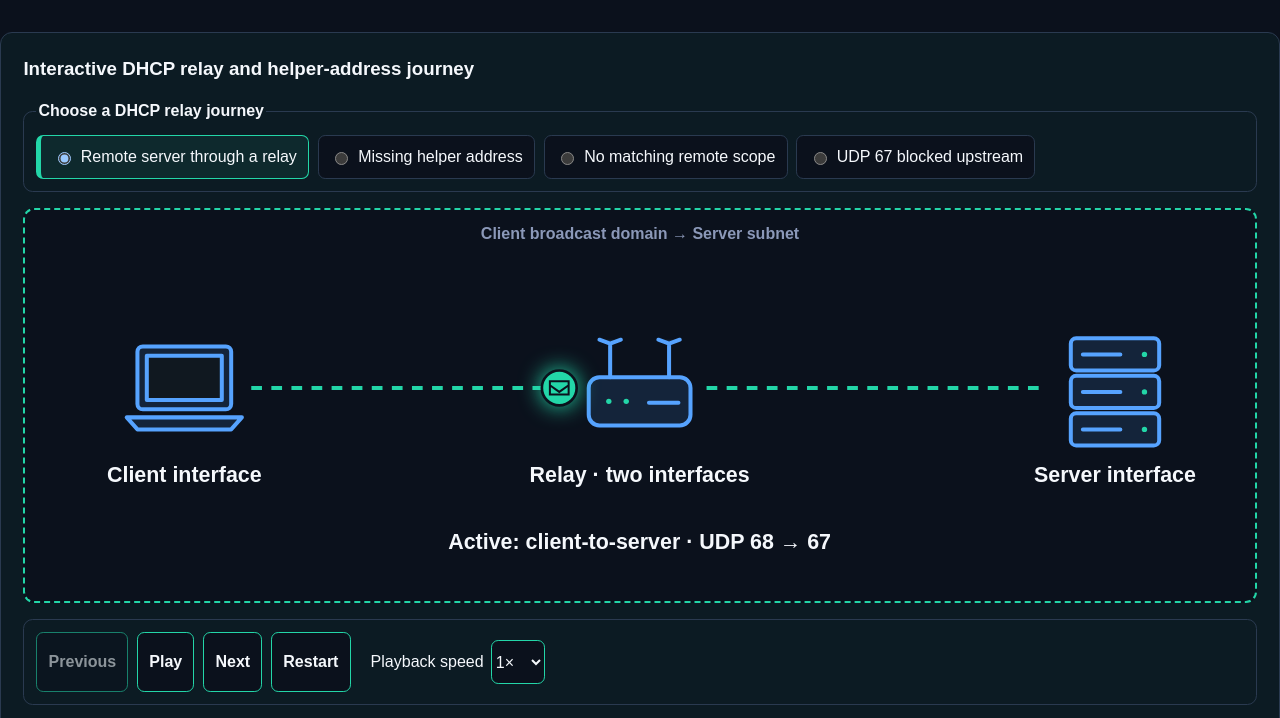
Test: DhcpRelayPlayer › shows two broadcast domains and exact relay port transitions
Check: the text "Client broadcast domain" is shown, box x1=481 y1=226 x2=668 y2=242
Check: the text "Server subnet" is shown, box x1=692 y1=226 x2=799 y2=242
Click the button "Play".
click(166, 662)  # box x1=137 y1=632 x2=194 y2=692
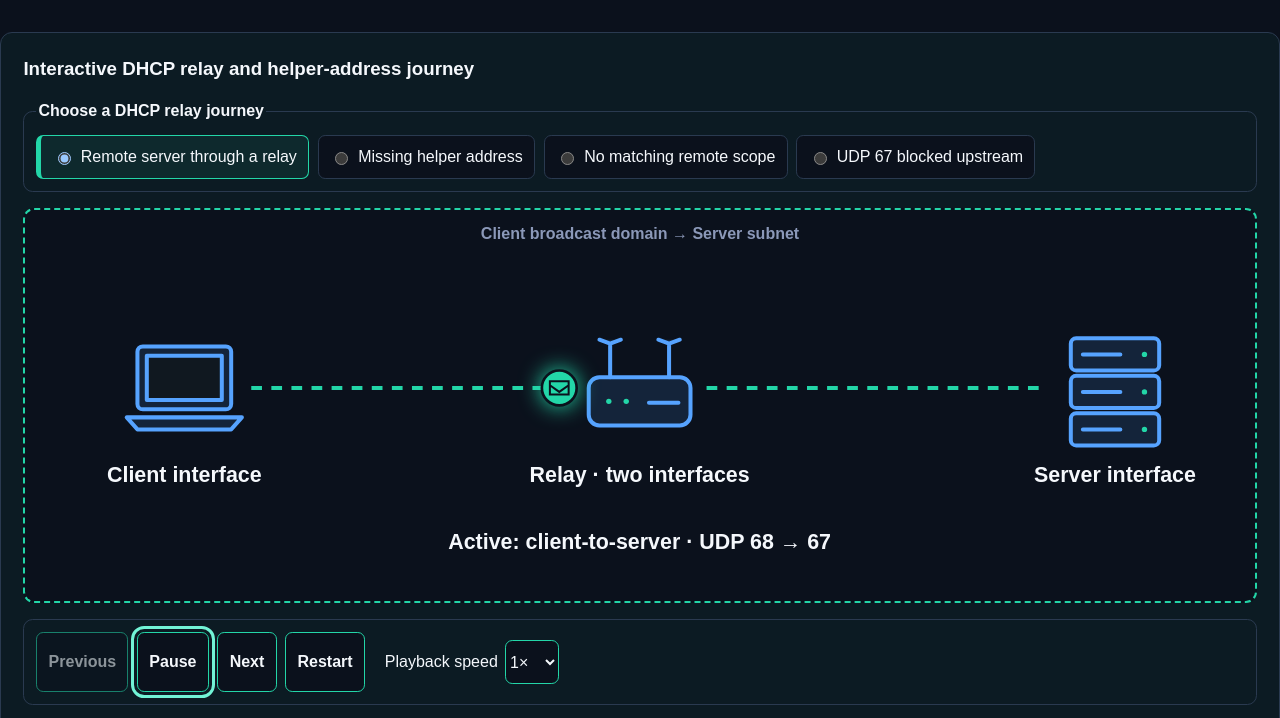
Click the button "Pause".
click(173, 662)  # box x1=137 y1=632 x2=209 y2=692
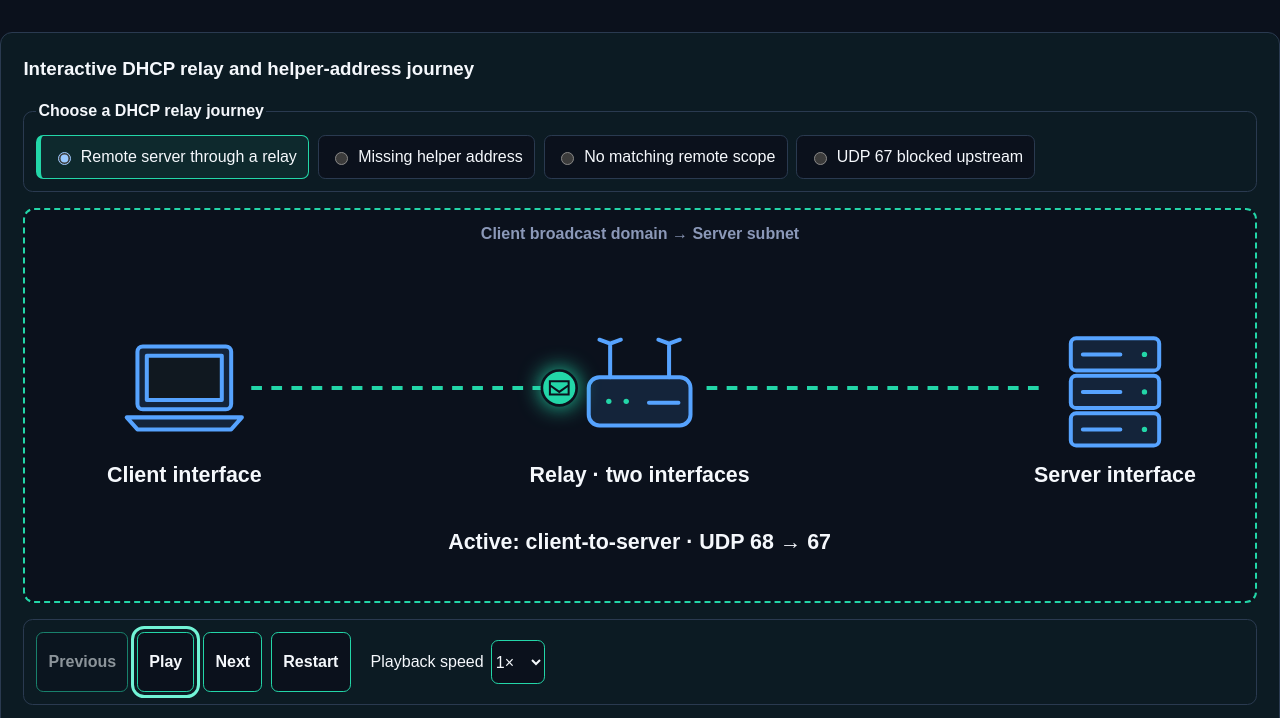
Click the button "Next".
click(233, 662)  # box x1=203 y1=632 x2=262 y2=692
(page scrolled)
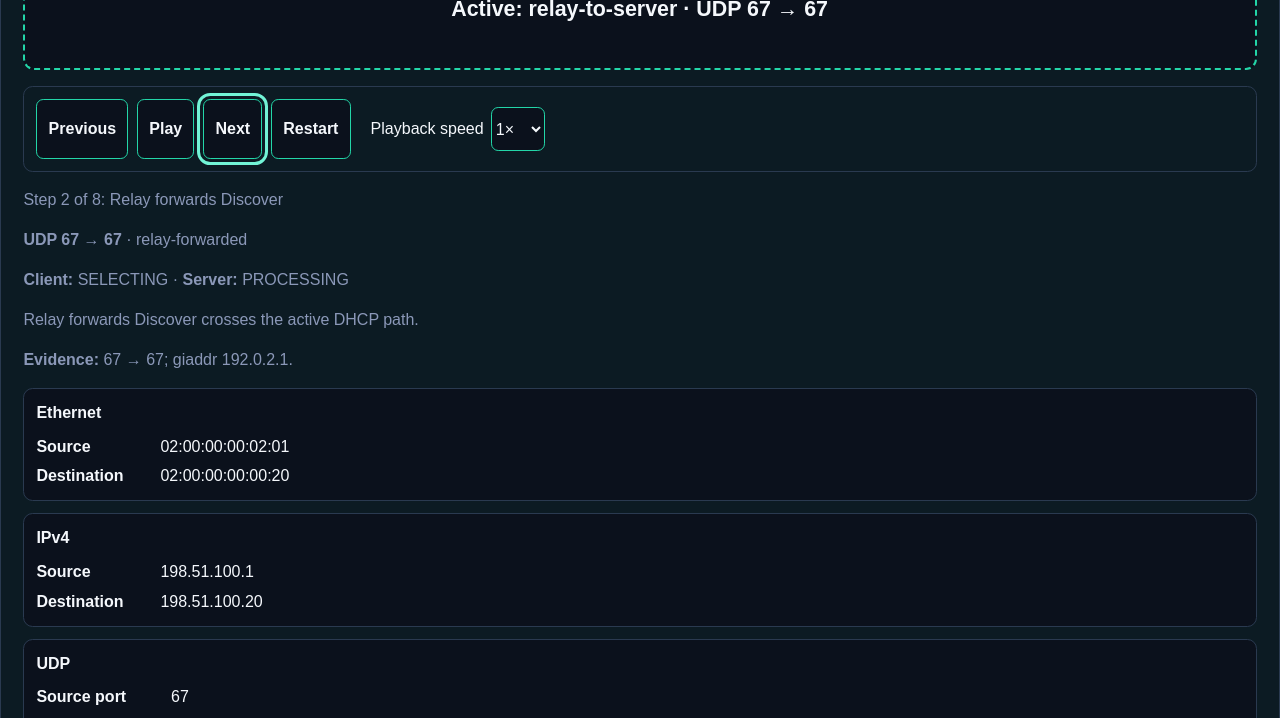
Check: the text "UDP 67 → 67" is shown, box x1=23 y1=231 x2=122 y2=248
Check: the text "Evidence: 67 → 67; giaddr 192.0.2.1." is shown, box x1=23 y1=351 x2=293 y2=368
